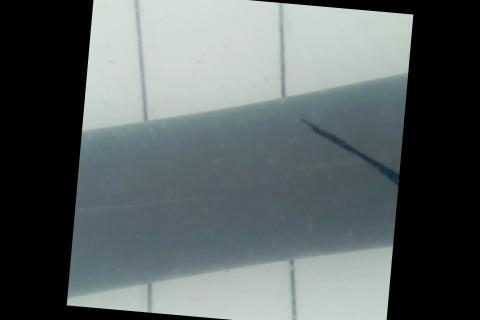keretakan: (291, 116, 403, 191)
